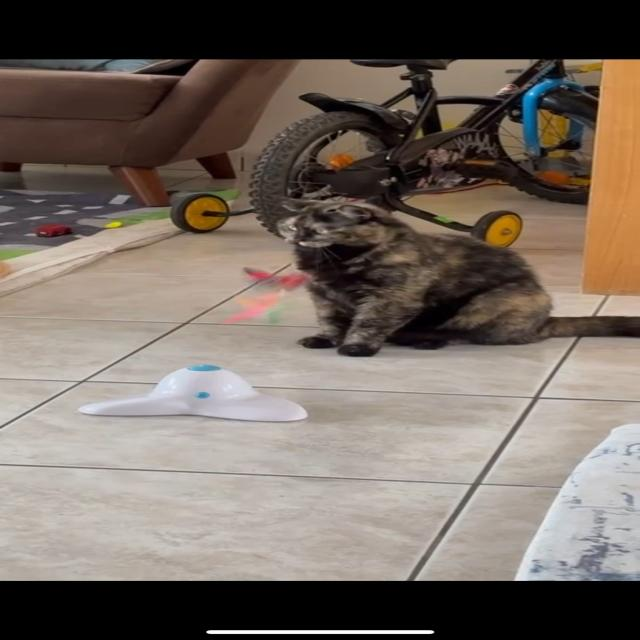authorized: (276, 195, 638, 357)
